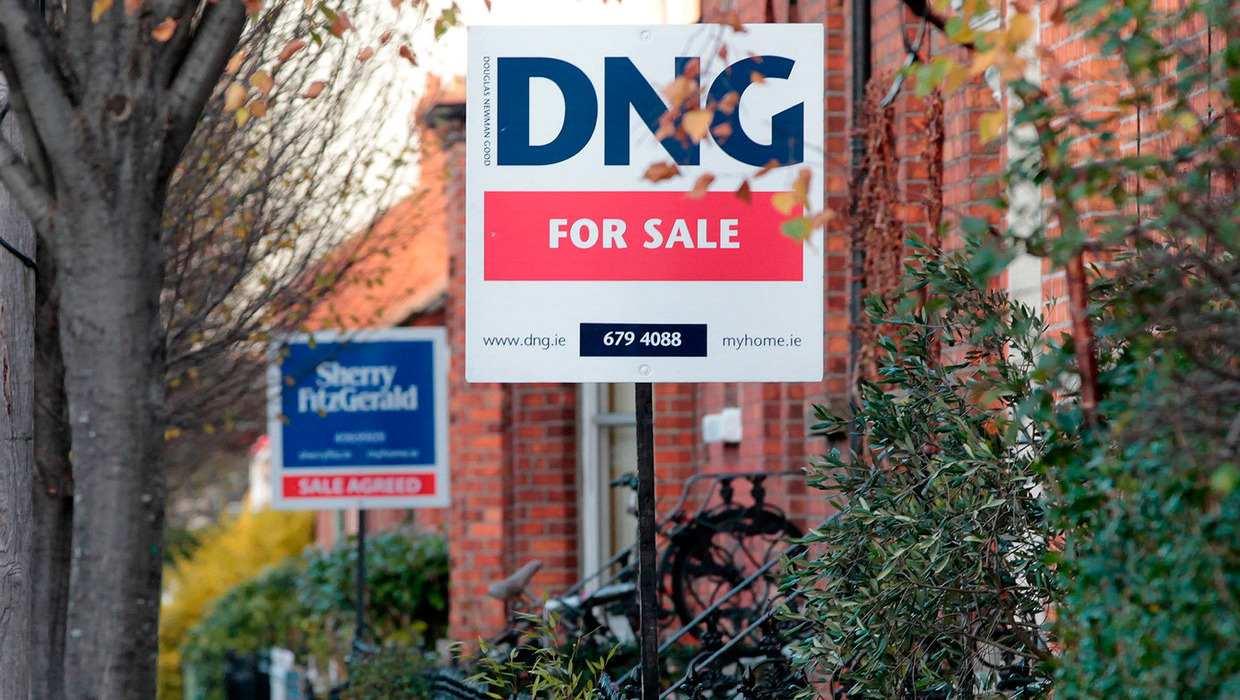property sign: (452, 9, 858, 404), (256, 316, 462, 517)
